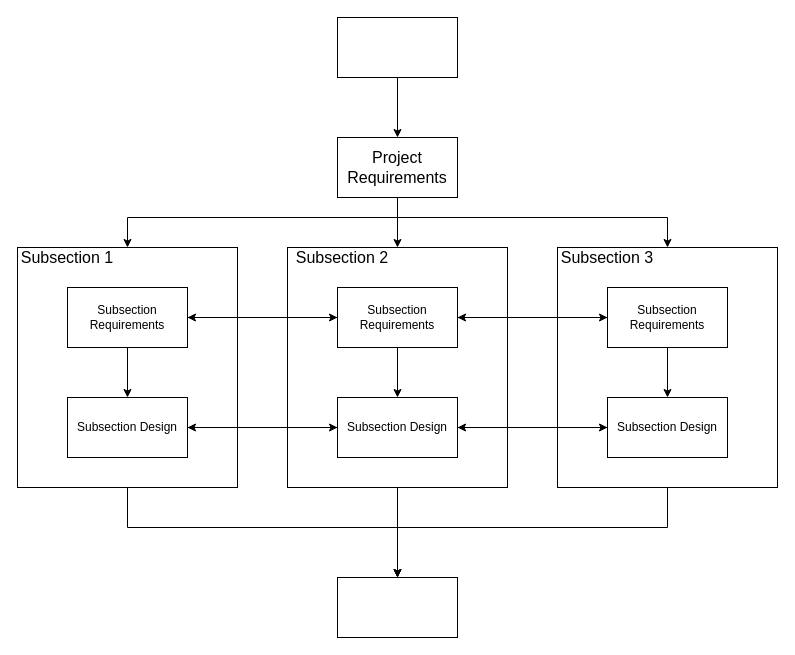
This 795x655 diagram has some shape labels left out. Here are the shapes that lost their labels. From the top down, the centre of each, then its label:
At (x=397, y=47): "Goals".
At (x=397, y=607): "Final Design".
